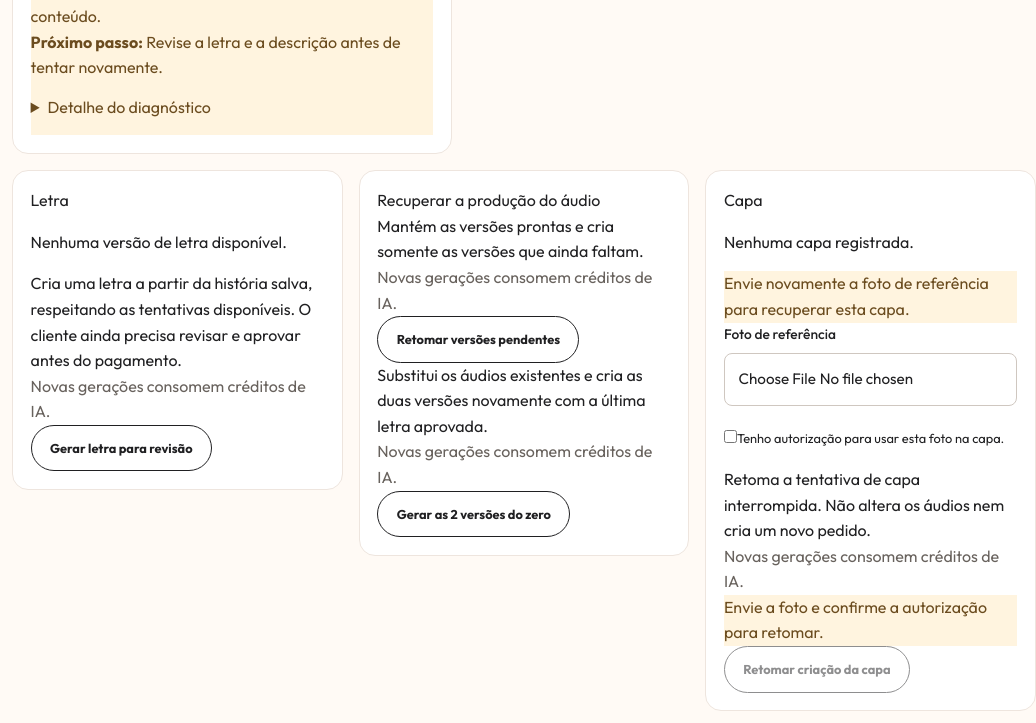
Test: ações de recuperação administrativas › retoma somente o job permitido, mantém erro visível e não dispara rebuild
(page scrolled)
Expected: the text "Revise a letra e a descrição" is shown, [31,32,401,77]
Click the button "Retomar versões pendentes": (478, 339) [377,316,580,363]
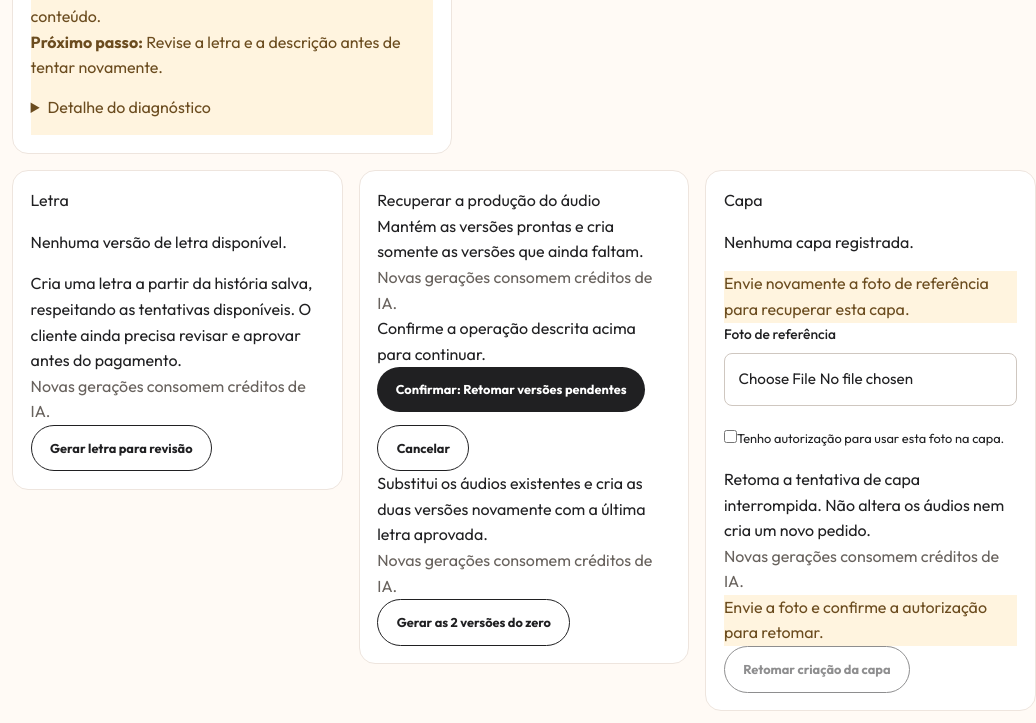
Click the button "Confirmar: Retomar versões pendentes": (511, 390) [377,367,645,412]
(page scrolled)
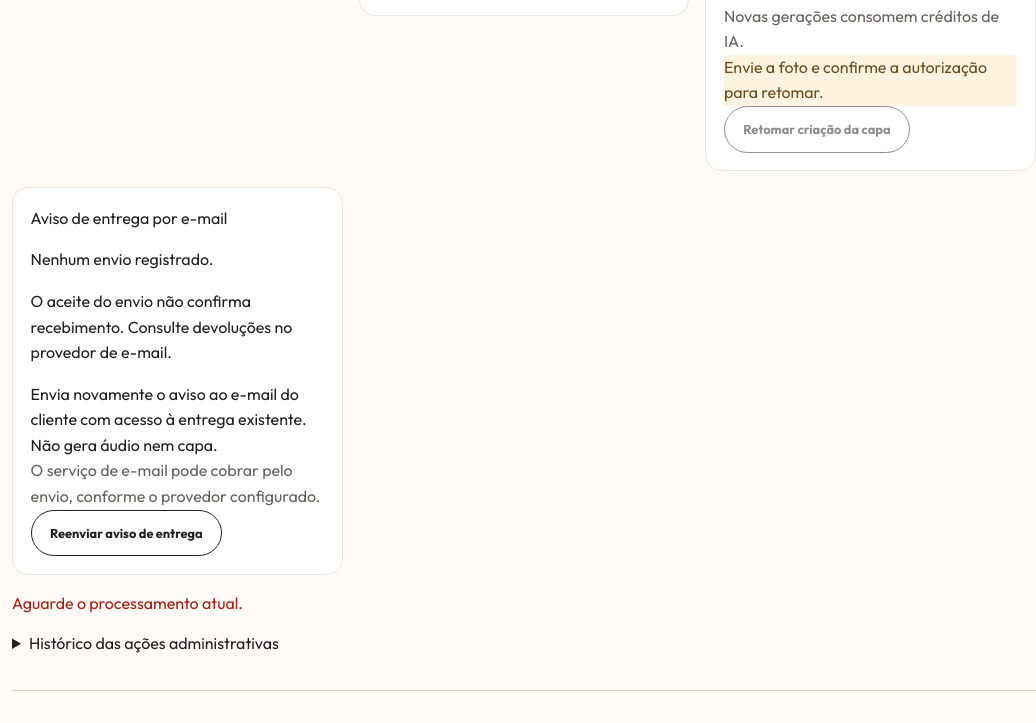
Now the message reads "Aguarde o processamento atual.", box [12,593,243,613]
